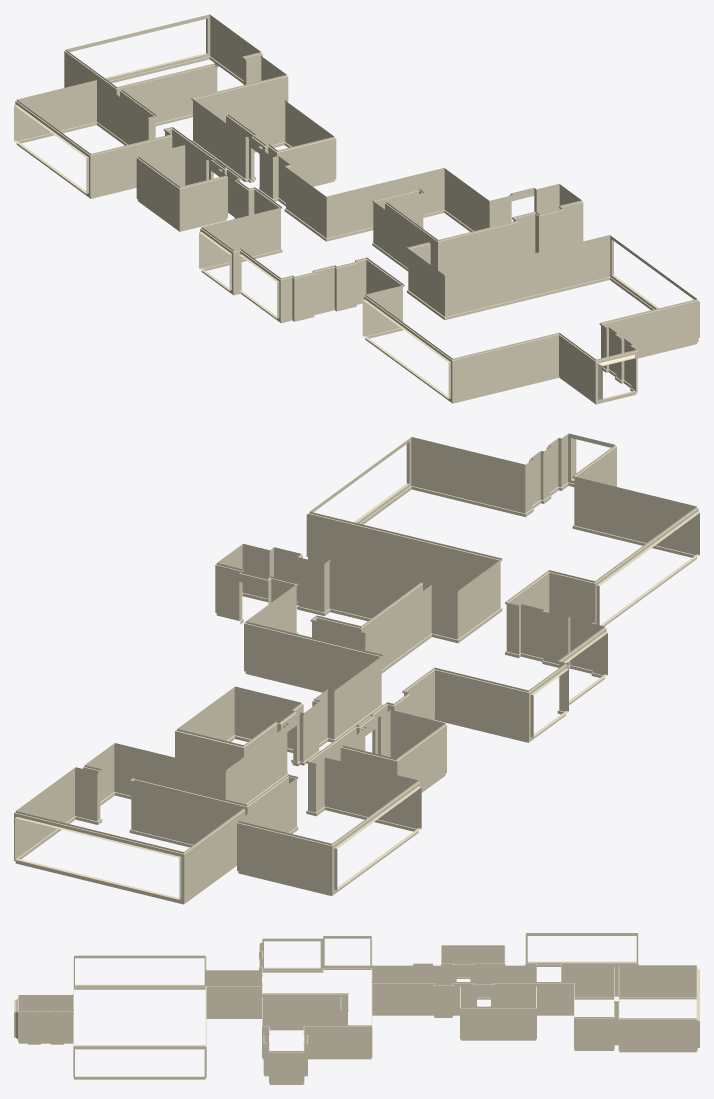
The model's file is Walls04.FBX.
The picture shows the model from 3 angles, top to bottom: view 1: azimuth 30°, elevation 25°; view 2: azimuth 150°, elevation 25°; view 3: azimuth 270°, elevation 25°; orthographic projection. The views are drawn at different scales.
Visible parts, largest first — view 1: Wall001; view 2: Wall001; view 3: Wall001.
Part boxes in pixels (left/top/right/bottom): Wall001: left=14, top=14, right=699, bottom=404; Wall001: left=14, top=433, right=699, bottom=904; Wall001: left=14, top=933, right=699, bottom=1084.
Bounding box in the file's own units: 2685 × 355 × 6513.
